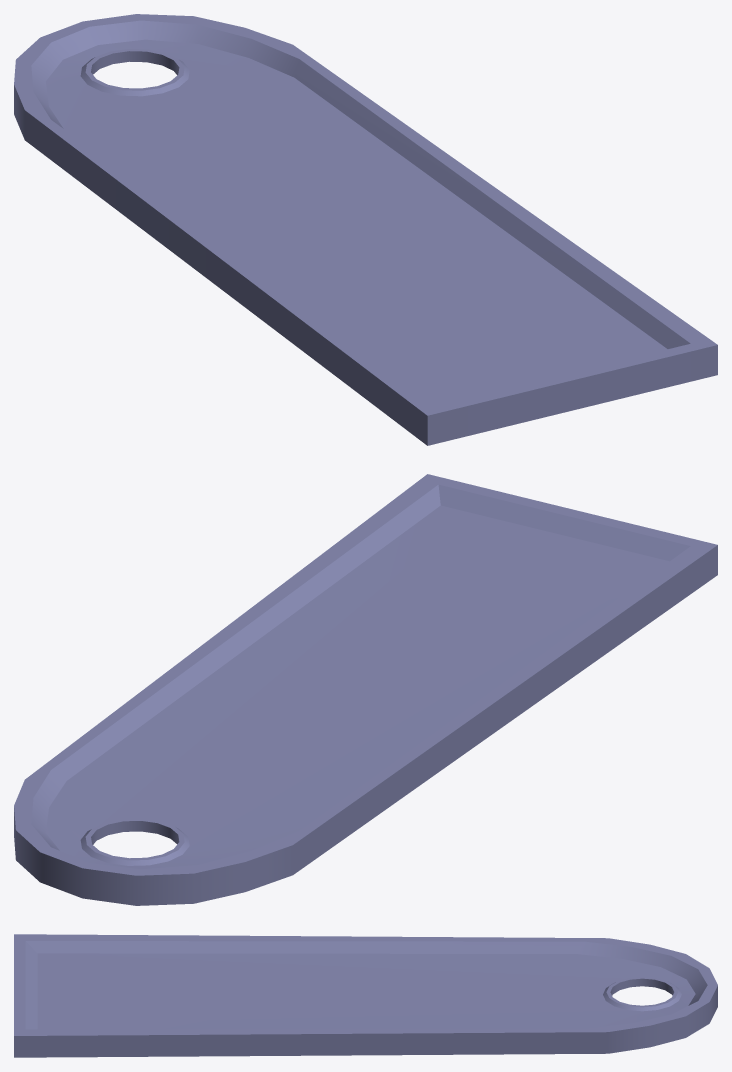
File: Llavero.fbx
3 views of the same model, one above another, from view 1: azimuth 30°, elevation 25°; view 2: azimuth 150°, elevation 25°; view 3: azimuth 270°, elevation 25° (orthographic). The views are drawn at different scales.
Parts seen in each view (by area): view 1: Llavero; view 2: Llavero; view 3: Llavero.
Boxes of the visible parts, left/top/right/bottom form: Llavero: left=14, top=14, right=717, bottom=445; Llavero: left=14, top=474, right=717, bottom=905; Llavero: left=14, top=934, right=717, bottom=1057.
Bounding box in the file's own units: 0.0114 × 0.00113 × 0.0334.
